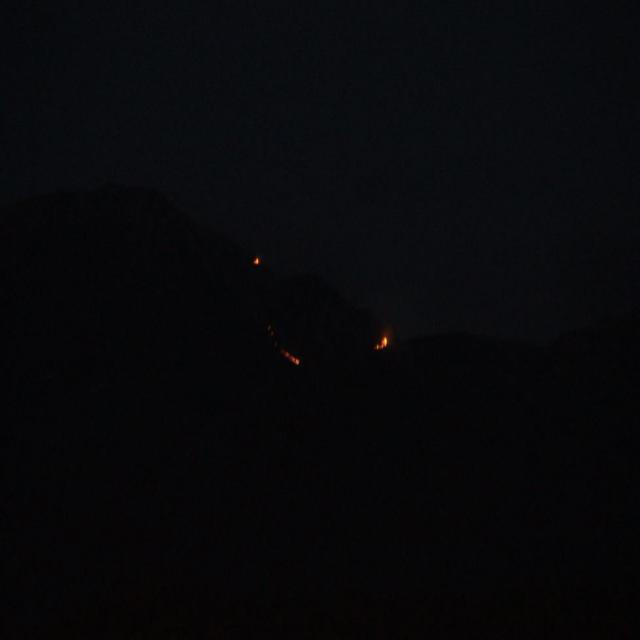Fire: (374, 337, 388, 352), (287, 352, 299, 365), (254, 258, 258, 264)
